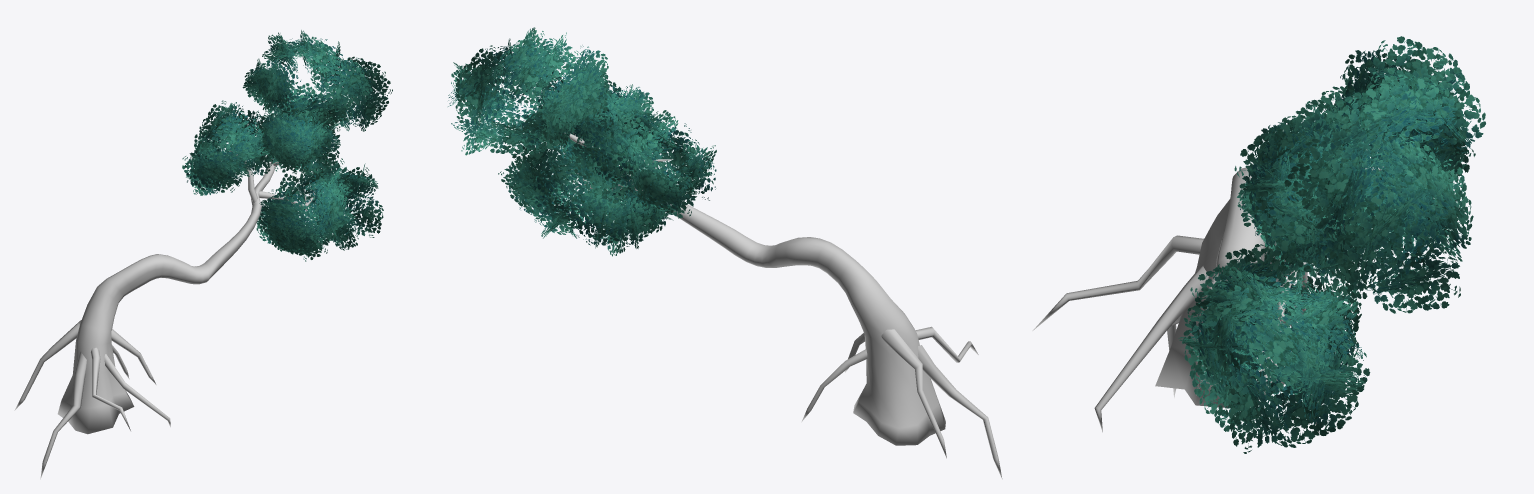
Rendered from Tree_M_03.fbx.
3 renders of one model, left to right at view 1: azimuth 30°, elevation 25°; view 2: azimuth 150°, elevation 25°; view 3: azimuth 270°, elevation 25°, orthographic. The views are drawn at different scales.
Visible parts, largest first — view 1: Tree_M_03, Tree_M3_Leaves3, Tree_M3_Leaves1, Tree_M3_Leaves2, Tree_M3_Leaves4; view 2: Tree_M_03, Tree_M3_Leaves3, Tree_M3_Leaves2, Tree_M3_Leaves1, Tree_M3_Leaves4; view 3: Tree_M3_Leaves3, Tree_M3_Leaves1, Tree_M_03, Tree_M3_Leaves4, Tree_M3_Leaves2.
Part boxes in pixels (x1,y1,x2,y2): Tree_M_03: (14, 145, 315, 479); Tree_M3_Leaves3: (242, 30, 392, 131); Tree_M3_Leaves1: (256, 157, 383, 261); Tree_M3_Leaves2: (182, 100, 274, 195); Tree_M3_Leaves4: (257, 104, 340, 176); Tree_M_03: (564, 132, 1002, 479); Tree_M3_Leaves3: (448, 27, 608, 155); Tree_M3_Leaves2: (566, 109, 716, 218); Tree_M3_Leaves1: (498, 140, 673, 256); Tree_M3_Leaves4: (553, 80, 654, 161); Tree_M3_Leaves3: (1284, 36, 1485, 313); Tree_M3_Leaves1: (1178, 244, 1370, 453); Tree_M_03: (1032, 166, 1383, 433); Tree_M3_Leaves4: (1234, 110, 1359, 288); Tree_M3_Leaves2: (1290, 86, 1459, 210).
Size of the model in its own units: 1356 by 1070 by 707.
